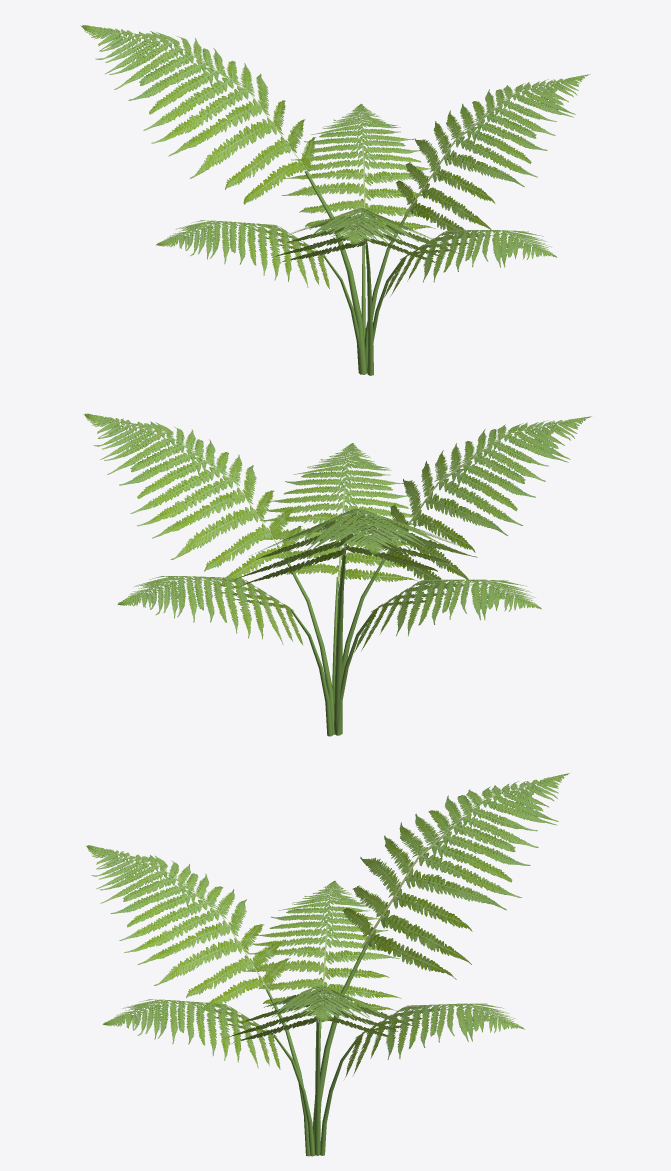
The model's file is fern4.FBX.
The picture shows the model from 3 angles, top to bottom: view 1: azimuth 30°, elevation 25°; view 2: azimuth 150°, elevation 25°; view 3: azimuth 270°, elevation 25°; orthographic projection. The views are drawn at different scales.
Parts seen in each view (by area): view 1: fern4; view 2: fern4; view 3: fern4.
Boxes of the visible parts, x1,y1,x2,y2 form: fern4: (80, 25, 590, 375); fern4: (83, 413, 591, 736); fern4: (86, 773, 569, 1156).
Size of the model in its own units: 3.66 by 2.09 by 4.03.
